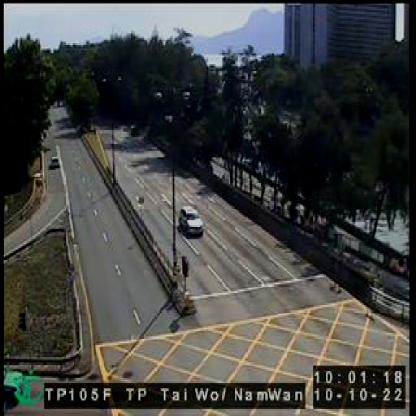Car: (181, 205, 205, 233), (51, 156, 59, 170), (52, 154, 61, 166)
